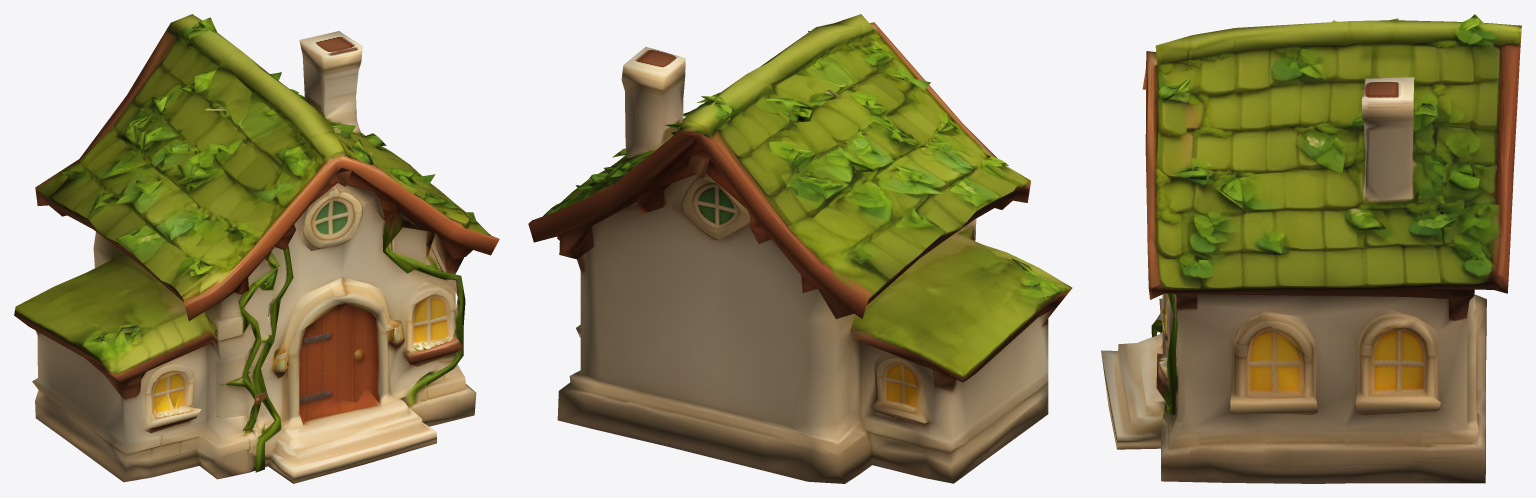
File: cottage-moss.glb
The picture shows the model from 3 angles, left to right: view 1: azimuth 30°, elevation 25°; view 2: azimuth 150°, elevation 25°; view 3: azimuth 270°, elevation 25°; orthographic projection. The views are drawn at different scales.
Visible parts, largest first — view 1: cottage-moss; view 2: cottage-moss; view 3: cottage-moss.
Part boxes in pixels (left/top/right/bottom): cottage-moss: left=14, top=14, right=499, bottom=483; cottage-moss: left=528, top=14, right=1072, bottom=483; cottage-moss: left=1101, top=14, right=1521, bottom=483.
Bounding box in the file's own units: 6.3 × 5.3 × 5.2.
1 material, 1 textured.
